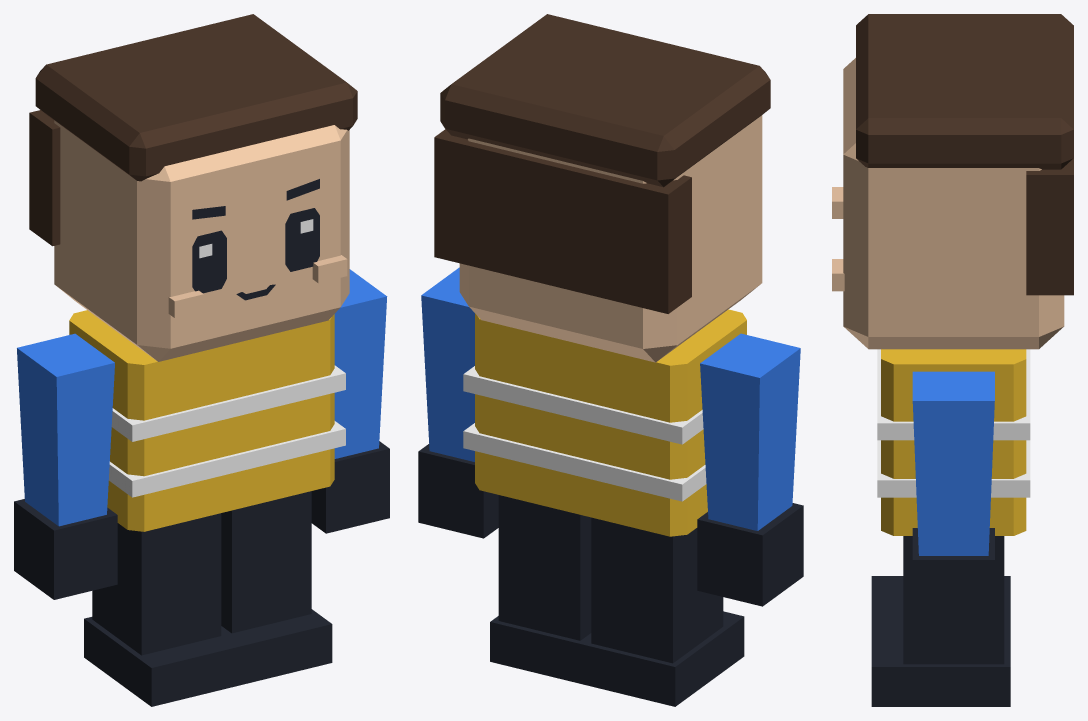
Rendered from staff-packer.glb.
The picture shows the model from 3 angles, left to right: view 1: azimuth 30°, elevation 25°; view 2: azimuth 150°, elevation 25°; view 3: azimuth 270°, elevation 25°; orthographic projection. The views are drawn at different scales.
Parts seen in each view (by area): view 1: head, body, hair, arm_R, leg_R, leg_L, shoe_R, hand_R, arm_L, face, hand_L, shoe_L; view 2: hair, body, head, arm_R, leg_R, leg_L, hand_R, arm_L, shoe_R, hand_L, shoe_L; view 3: hair, head, body, arm_L, shoe_L, hand_L, leg_L, shoe_R, face.
Boxes of the visible parts, x1,y1,x2,y2 form: head: (54,120,349,361); body: (69,310,345,531); hair: (29,14,357,246); arm_R: (17,333,114,526); leg_R: (92,513,221,655); leg_L: (221,491,311,633); shoe_R: (84,617,241,706); hand_R: (14,499,117,599); arm_L: (334,269,387,458); face: (168,179,347,317); hand_L: (311,441,389,533); shoe_L: (221,609,332,684); hair: (434,14,770,313); body: (463,309,746,536); head: (459,115,762,362); arm_R: (700,333,800,530); leg_R: (591,517,723,663); leg_L: (498,495,591,640); hand_R: (697,503,803,606); arm_L: (421,267,474,461); shoe_R: (582,611,744,706); hand_L: (418,444,498,538); shoe_L: (490,616,591,684); hair: (856,14,1073,295); head: (843,58,1064,349); body: (877,349,1030,535); arm_L: (912,371,994,555); shoe_L: (871,621,1010,706); hand_L: (912,528,994,631); leg_L: (903,536,1004,664); shoe_R: (871,576,1010,621); face: (832,187,844,291).
Size of the model in its own units: 1.26 by 2.08 by 0.765.
